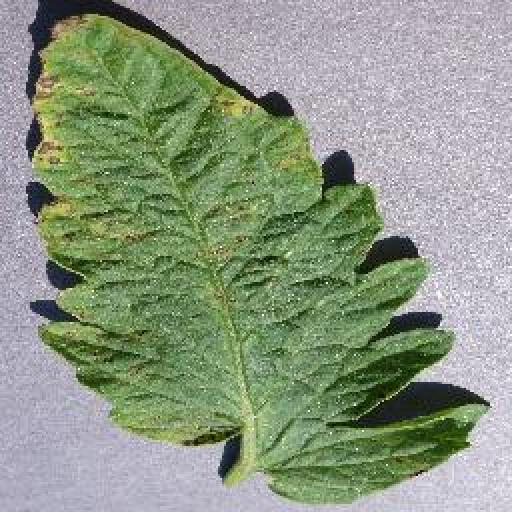Septoria: (27, 12, 488, 508)
